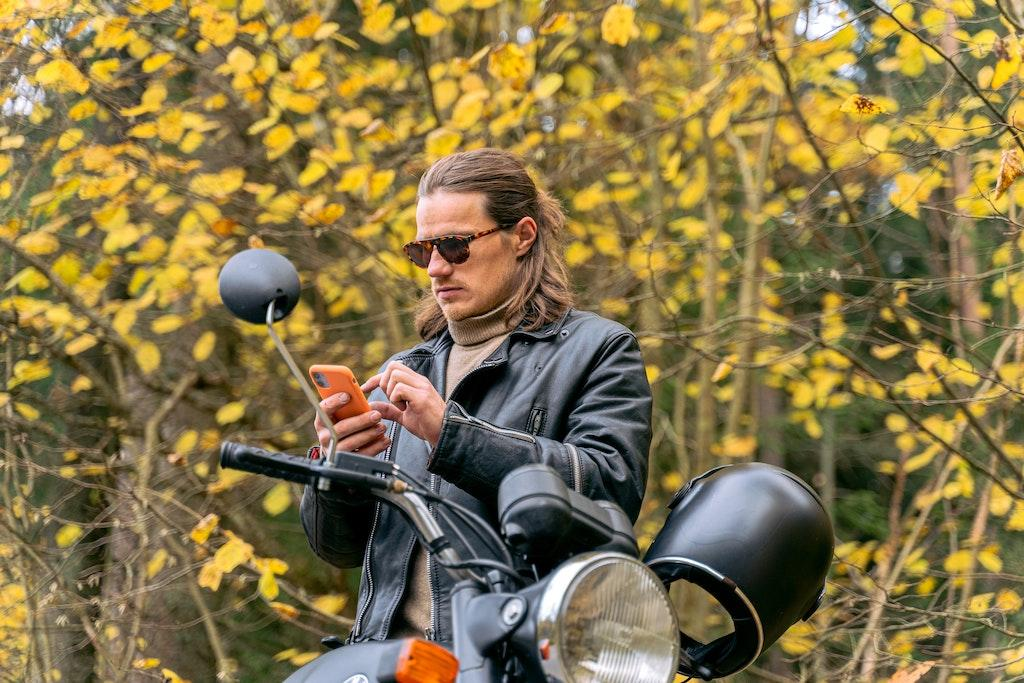helmet: (632, 460, 837, 681)
nohelmet: (401, 146, 560, 324)
